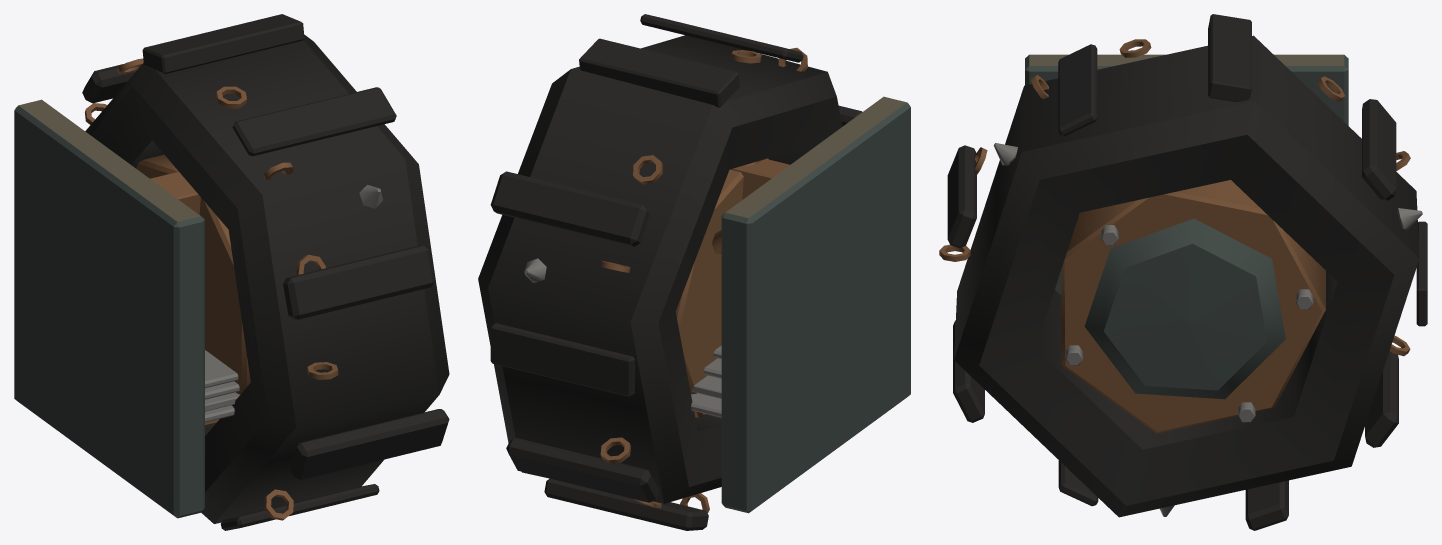
Rendered from R4M_WheelM_Side_Offroad_LOD1.fbx.
The picture shows the model from 3 angles, left to right: view 1: azimuth 30°, elevation 25°; view 2: azimuth 150°, elevation 25°; view 3: azimuth 270°, elevation 25°; orthographic projection.
Parts seen in each view (by area): view 1: R4M_WheelM_Side_Offroad_LOD1; view 2: R4M_WheelM_Side_Offroad_LOD1; view 3: R4M_WheelM_Side_Offroad_LOD1.
Part boxes in pixels (bbox=[...]): R4M_WheelM_Side_Offroad_LOD1: bbox=[14, 14, 449, 530]; R4M_WheelM_Side_Offroad_LOD1: bbox=[478, 14, 910, 530]; R4M_WheelM_Side_Offroad_LOD1: bbox=[939, 14, 1427, 530].
Bounding box in the file's own units: 0.448 × 0.7696 × 0.7542.
